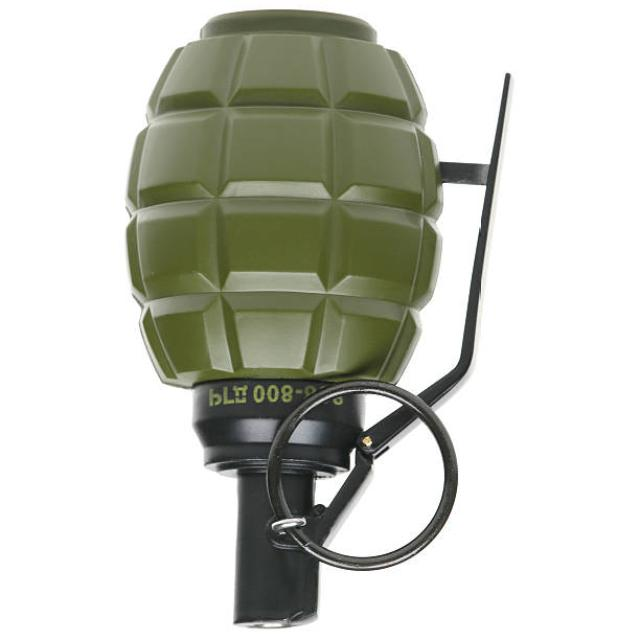grenade: (119, 1, 525, 640)
